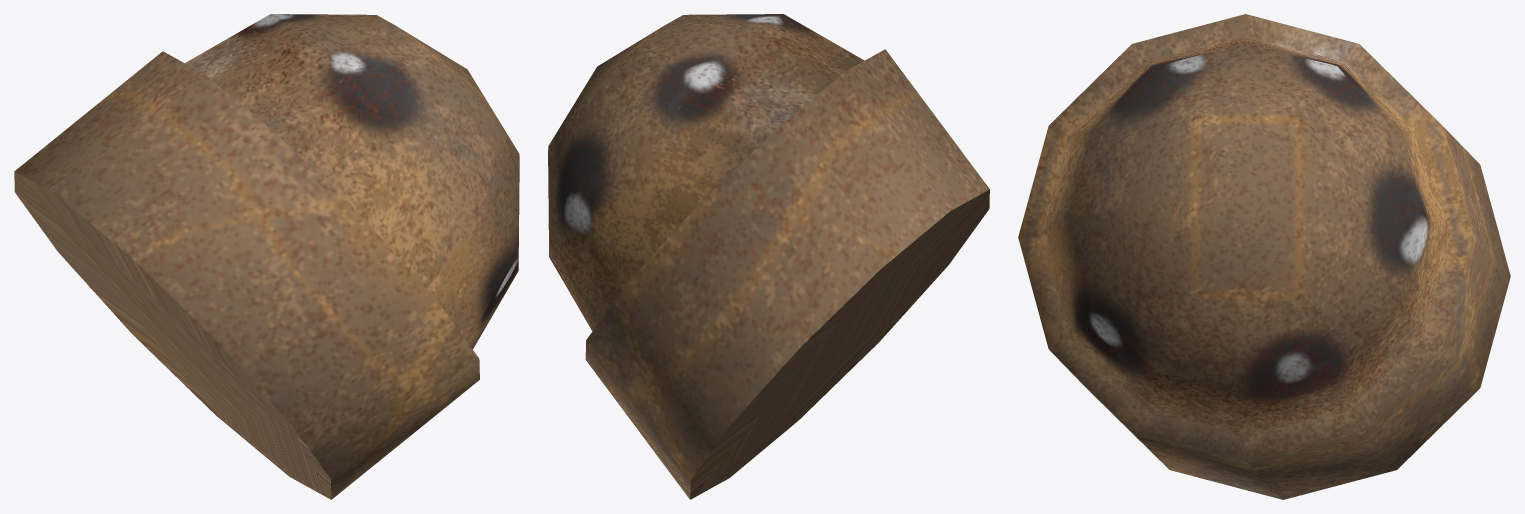
File: spider_eyes_prob.fbx
3 renders of one model, left to right at view 1: azimuth 30°, elevation 25°; view 2: azimuth 150°, elevation 25°; view 3: azimuth 270°, elevation 25°, orthographic. The views are drawn at different scales.
Visible parts, largest first — view 1: Object009; view 2: Object009; view 3: Object009.
Part boxes in pixels (x1,y1,x2,y2): Object009: (14,14,519,499); Object009: (548,14,989,499); Object009: (1018,14,1510,499).
Bounding box in the file's own units: 38.48 × 39.73 × 39.07.
